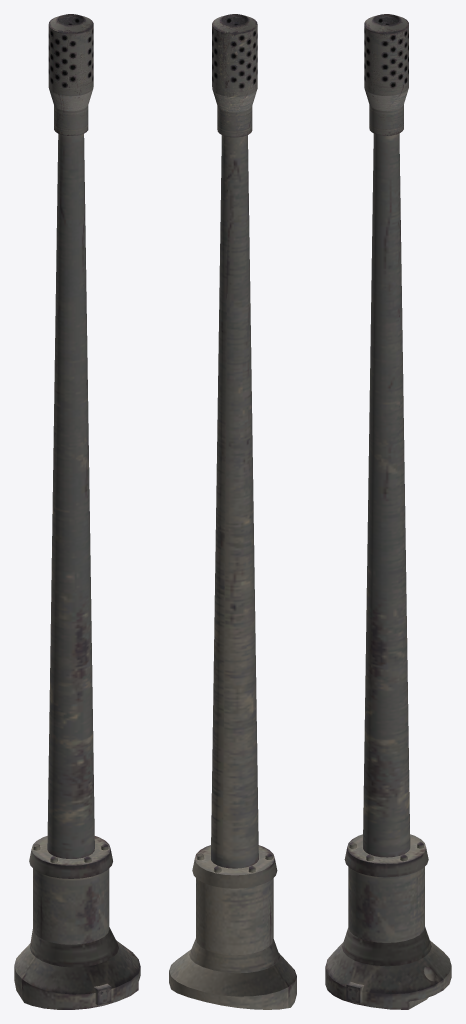
File: Gun_06.glb
The picture shows the model from 3 angles, left to right: view 1: azimuth 30°, elevation 25°; view 2: azimuth 150°, elevation 25°; view 3: azimuth 330°, elevation 25°; orthographic projection.
Parts seen in each view (by area): view 1: set_0_group_0; view 2: set_0_group_0; view 3: set_0_group_0.
Part boxes in pixels (x1,y1,x2,y2): set_0_group_0: [14, 14, 140, 1009]; set_0_group_0: [169, 14, 296, 1009]; set_0_group_0: [325, 14, 451, 1009].
Bounding box in the file's own units: 0.7114 × 5.95 × 0.6768.
1 material, 1 textured.
